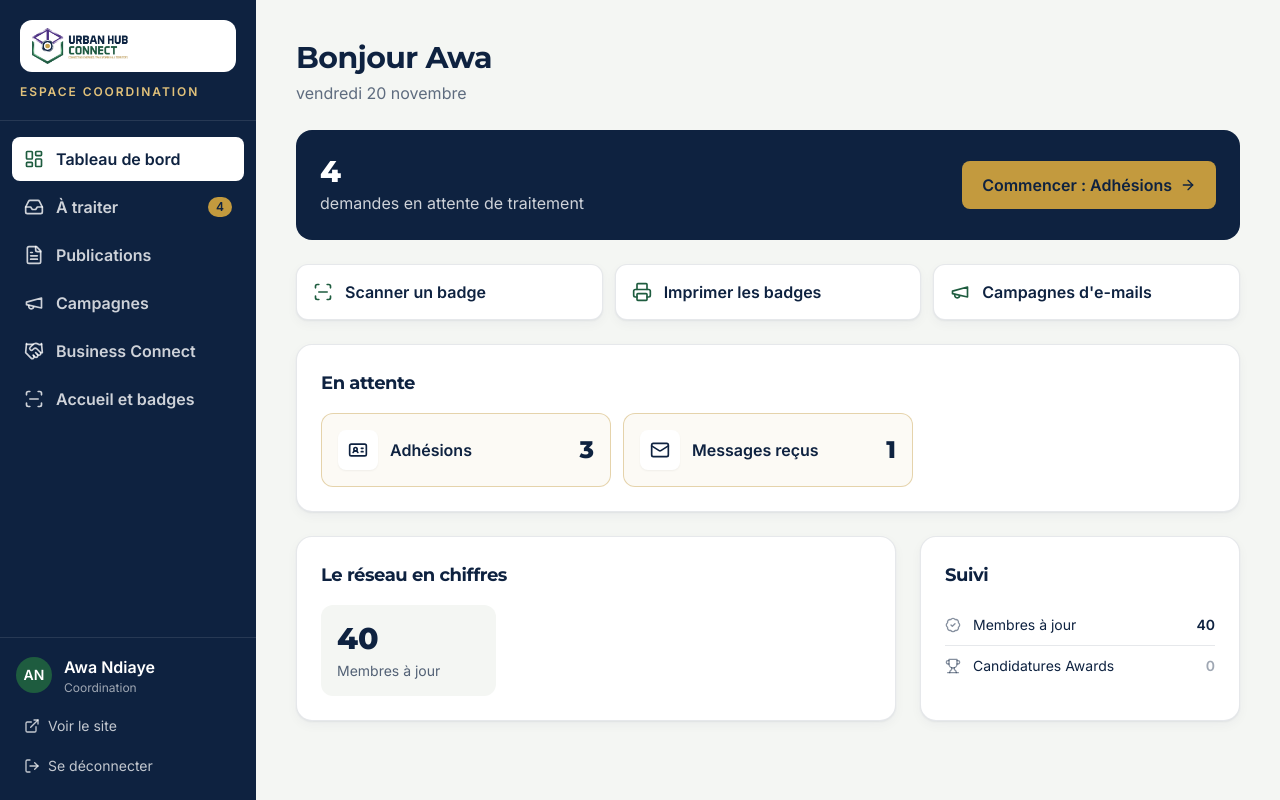
Test: Espace Coordination : navigation › ouvre une file depuis le tableau de bord et garde l'onglet dans l'adresse
Click the button "Commencer : Adhésions" at (1089, 185), box [962, 161, 1216, 209]
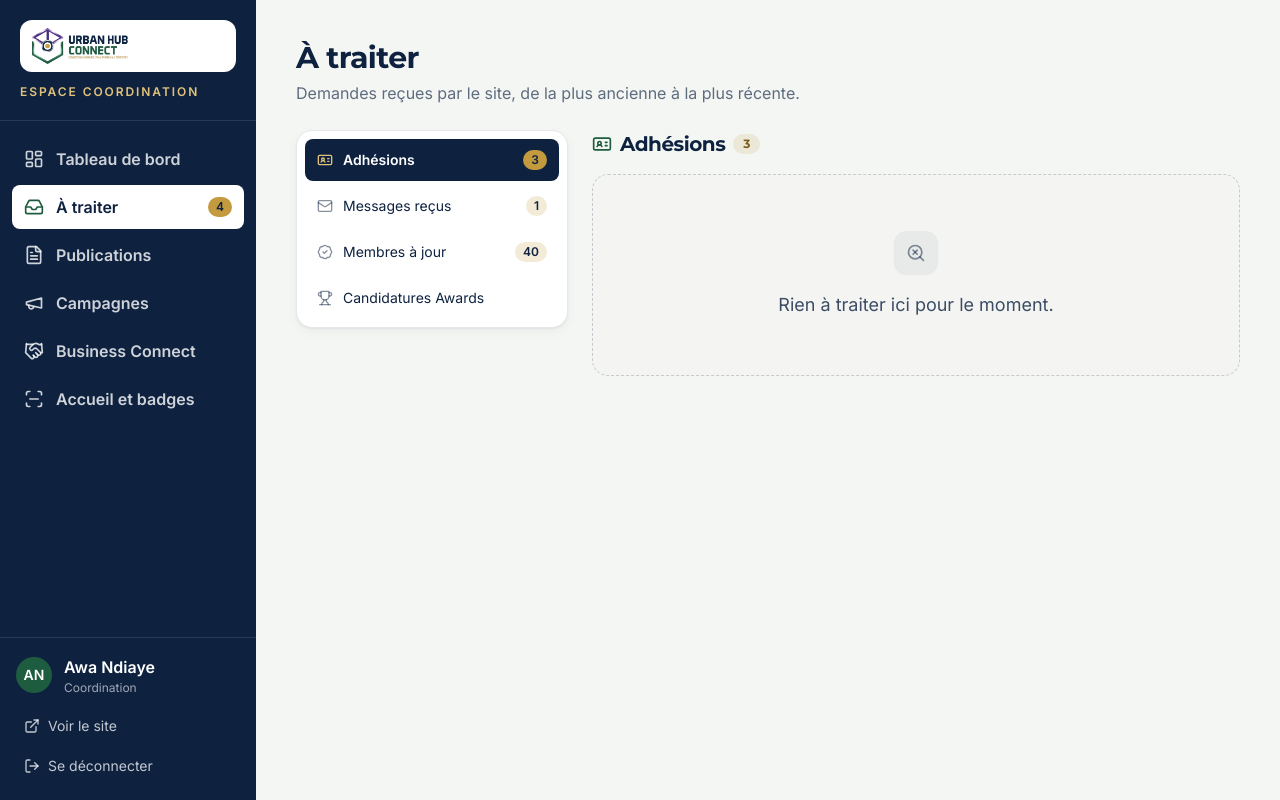
expect the heading "À traiter" is shown: met, box [296, 39, 419, 76]
